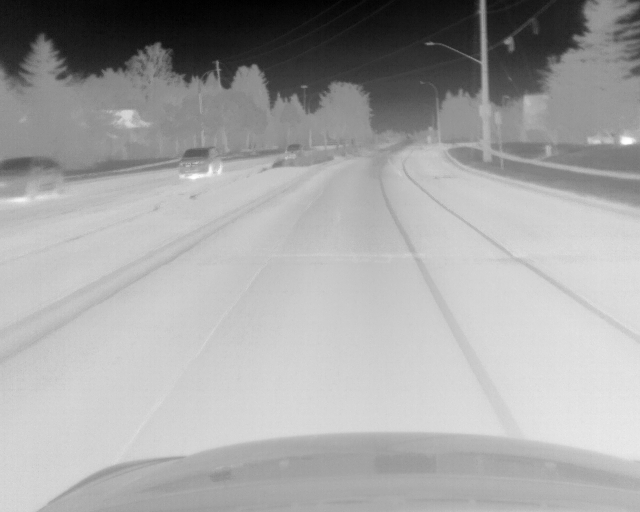car: (1, 156, 64, 201), (179, 144, 222, 180), (284, 143, 311, 160)
